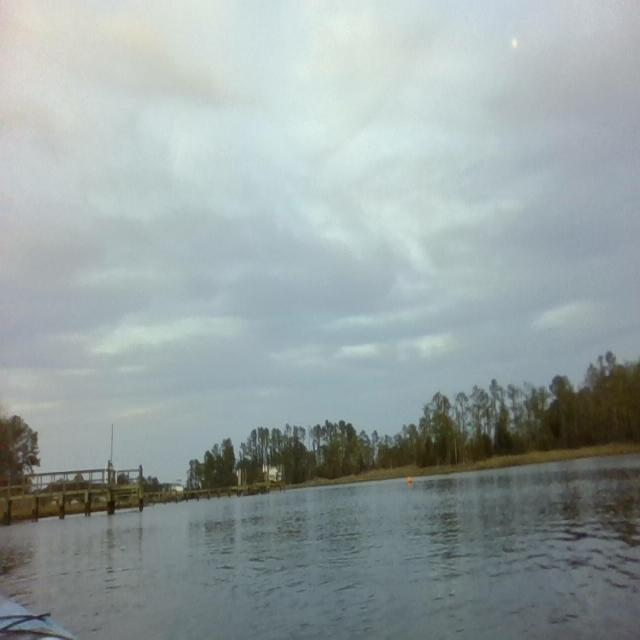Buoy: (407, 472, 413, 485)
